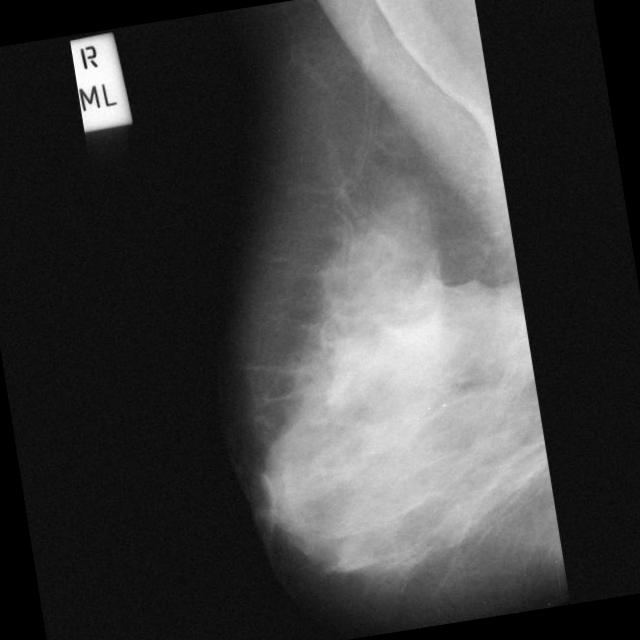ASYM: (491, 304, 564, 378)
